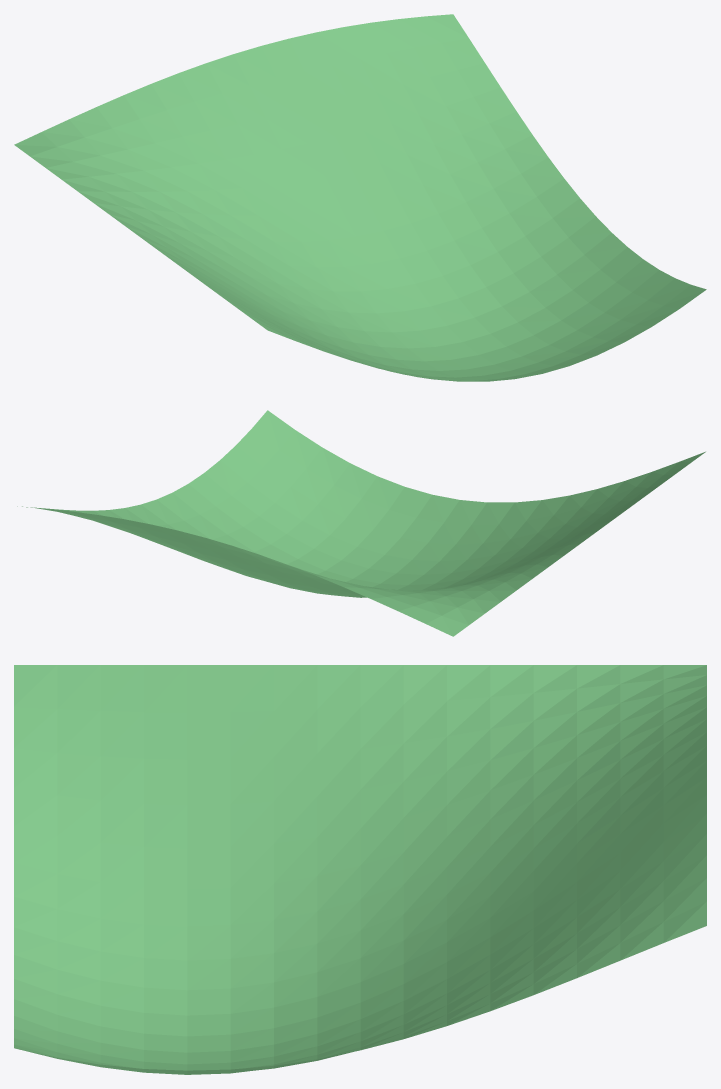
3 views of the same model, one above another, from view 1: azimuth 30°, elevation 25°; view 2: azimuth 150°, elevation 25°; view 3: azimuth 270°, elevation 25° (orthographic). The views are drawn at different scales.
Size of the model in its own units: 10 by 3.85 by 10.
